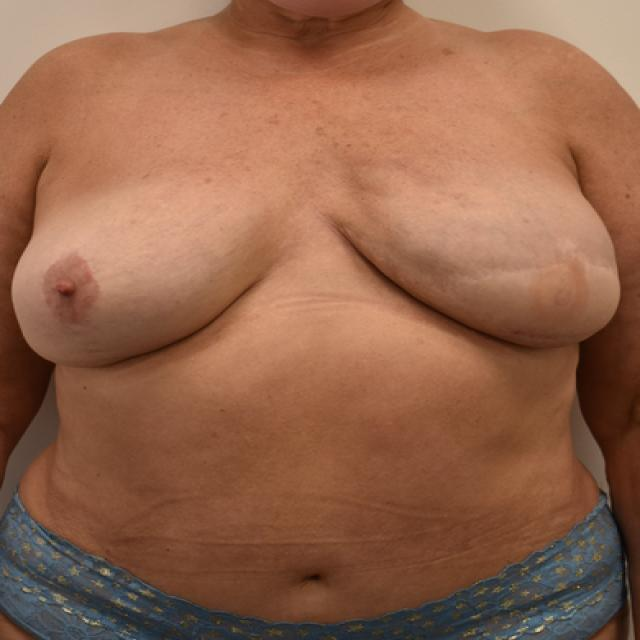Seno herido: (309, 92, 632, 400)
Seno ileso: (1, 92, 295, 400)
